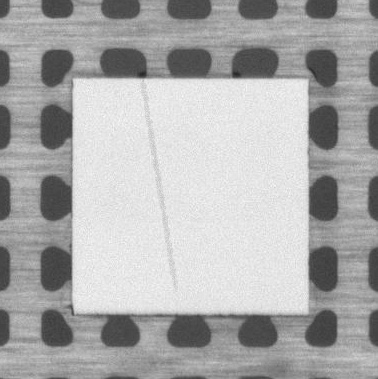DIE_CRACK: (143, 83, 176, 290)
